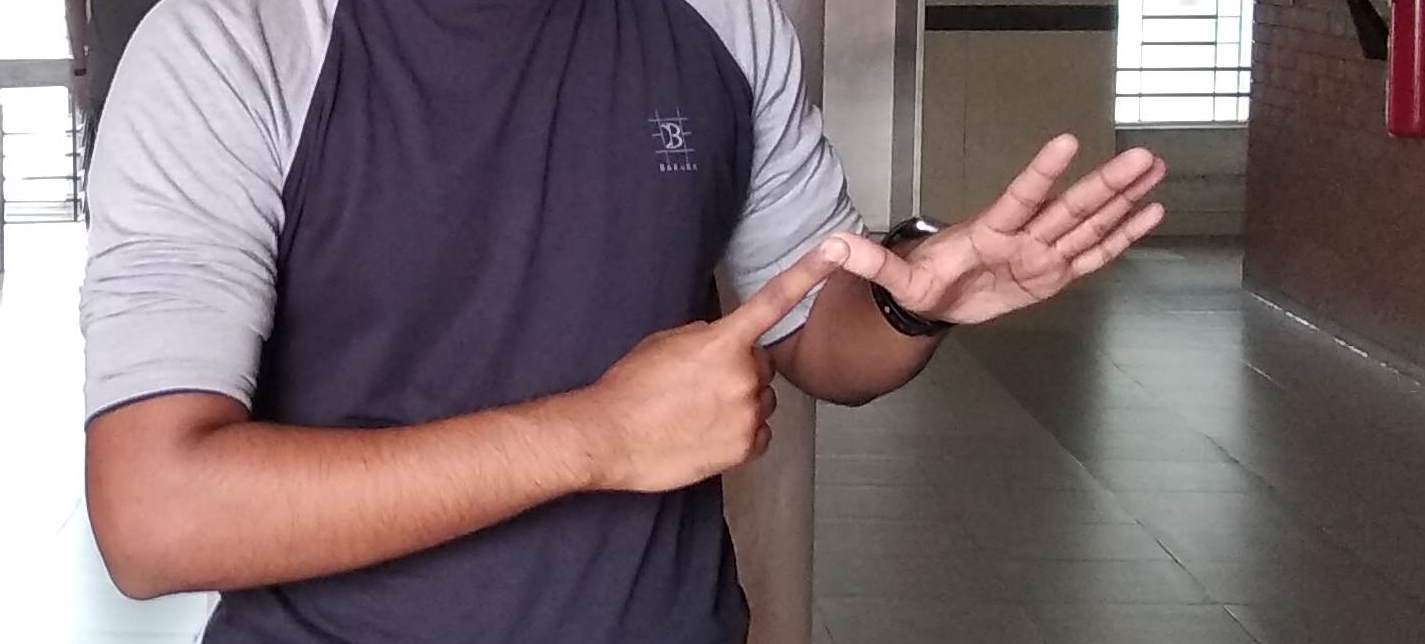a: (672, 128, 1160, 505)
